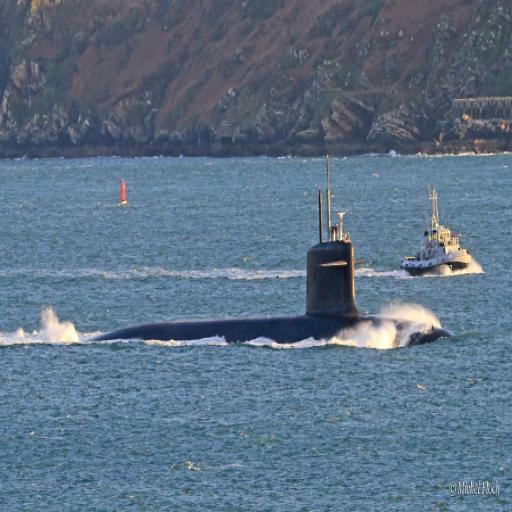submarine: (91, 243, 452, 355)
